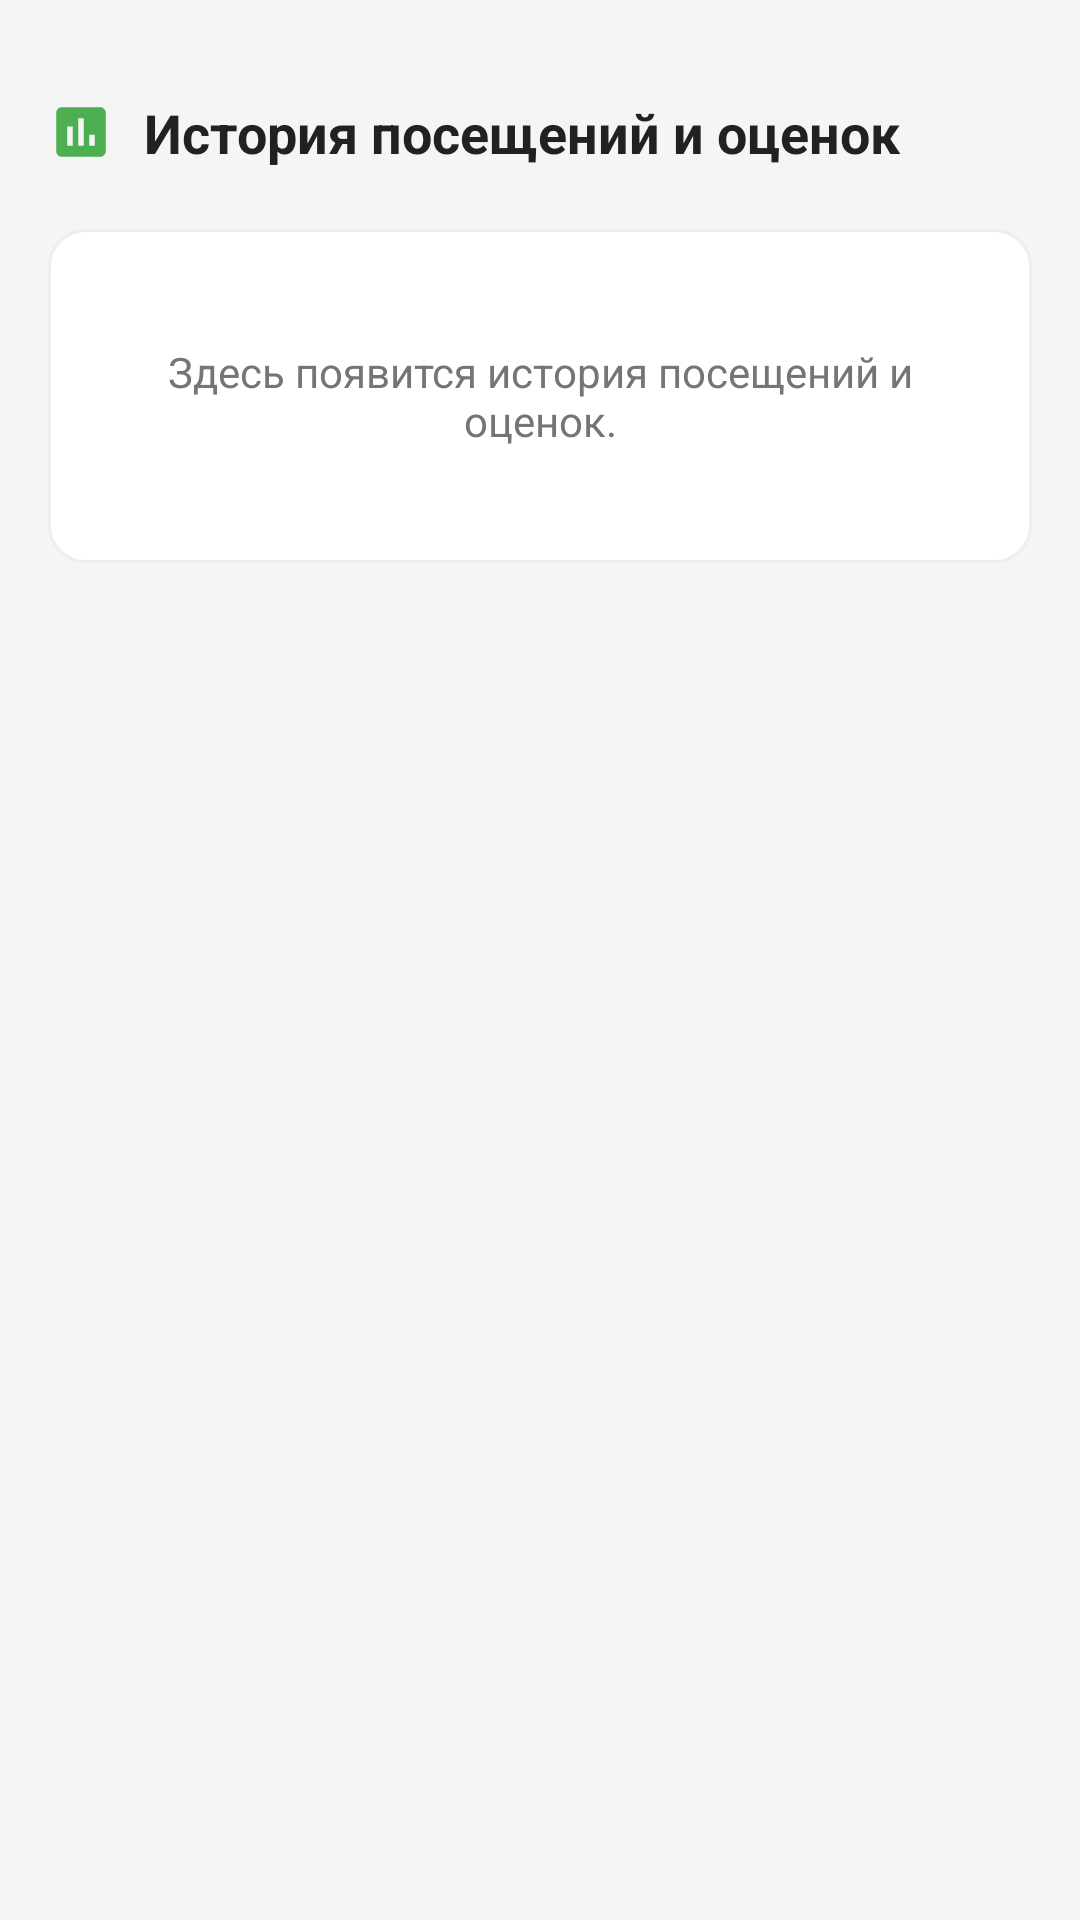

Point at icon controls on the screen. Image size 1080px x 1920px, points as [x,y].
Посещаемость: [81,132]
